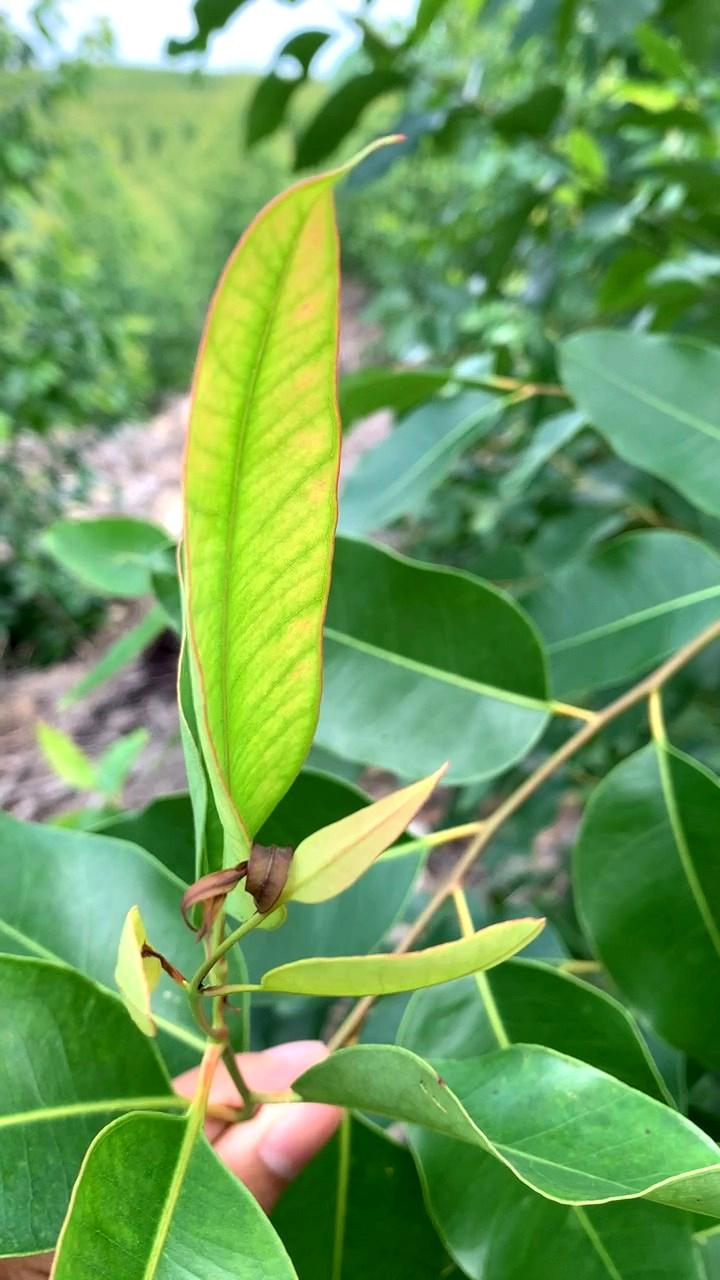Helopeltis-Withered Sprout: (186, 836, 293, 925)
